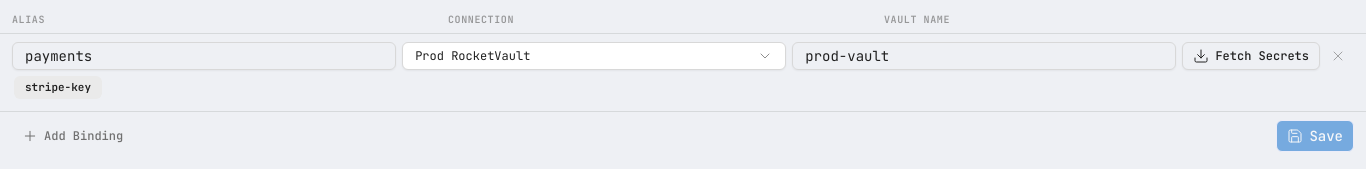
it: ExternalSecretsTab › clears fetched secret names when the vault name changes
Expected: the text "stripe-key" is shown, [14,76,102,98]
In the field named "Vault name for binding 1": (984, 56) [792,42,1176,70], type "x"
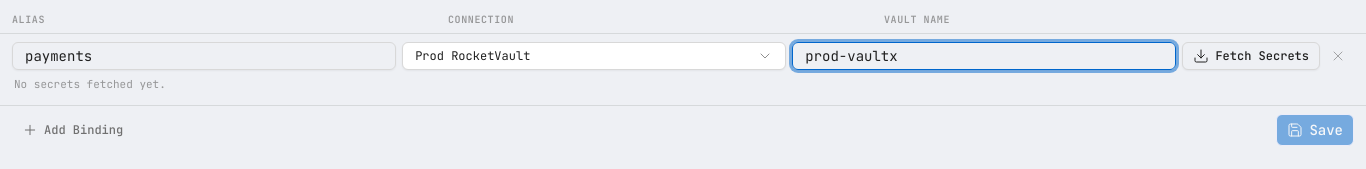
Now the text "stripe-key" is gone
